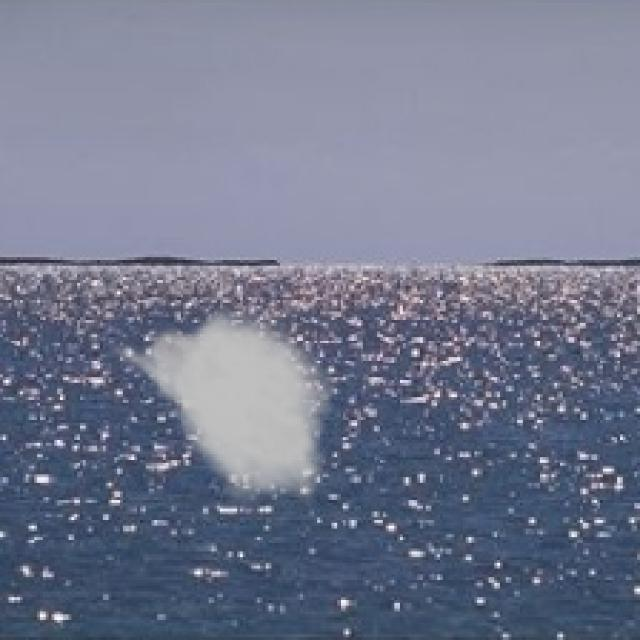smoke: (103, 303, 337, 511)
